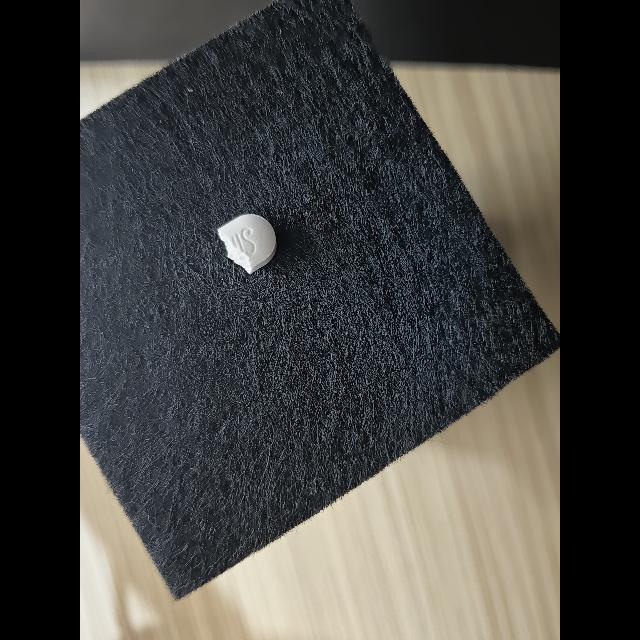Chipped Pill: (218, 214, 276, 274)
